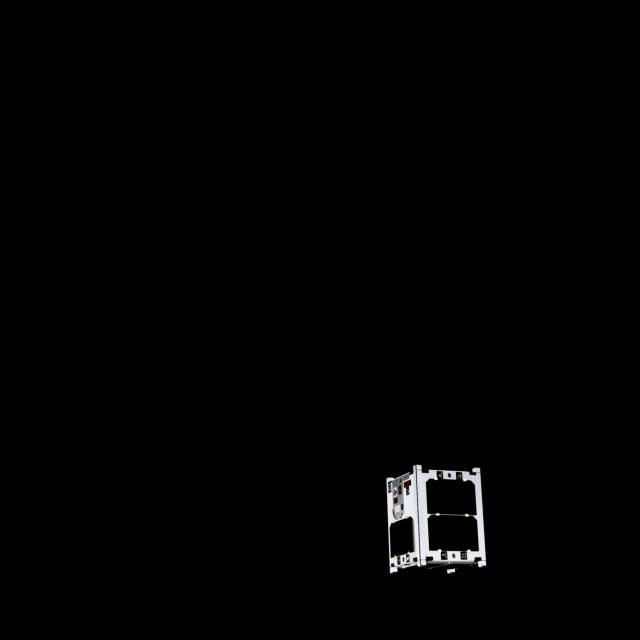medium_debris: (382, 467, 491, 586)
